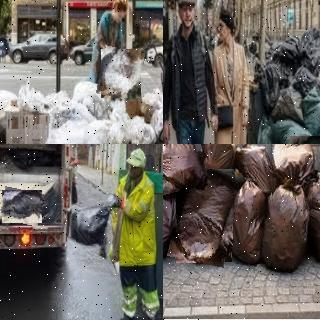Garbage: (172, 167, 239, 266), (259, 178, 312, 273), (223, 174, 273, 264), (99, 47, 143, 100), (163, 144, 205, 193), (303, 170, 320, 266), (269, 144, 314, 180), (272, 73, 304, 123), (68, 206, 108, 246), (1, 188, 43, 225), (163, 177, 178, 262), (78, 116, 123, 144), (42, 116, 86, 144), (199, 144, 239, 173), (299, 85, 320, 140)
